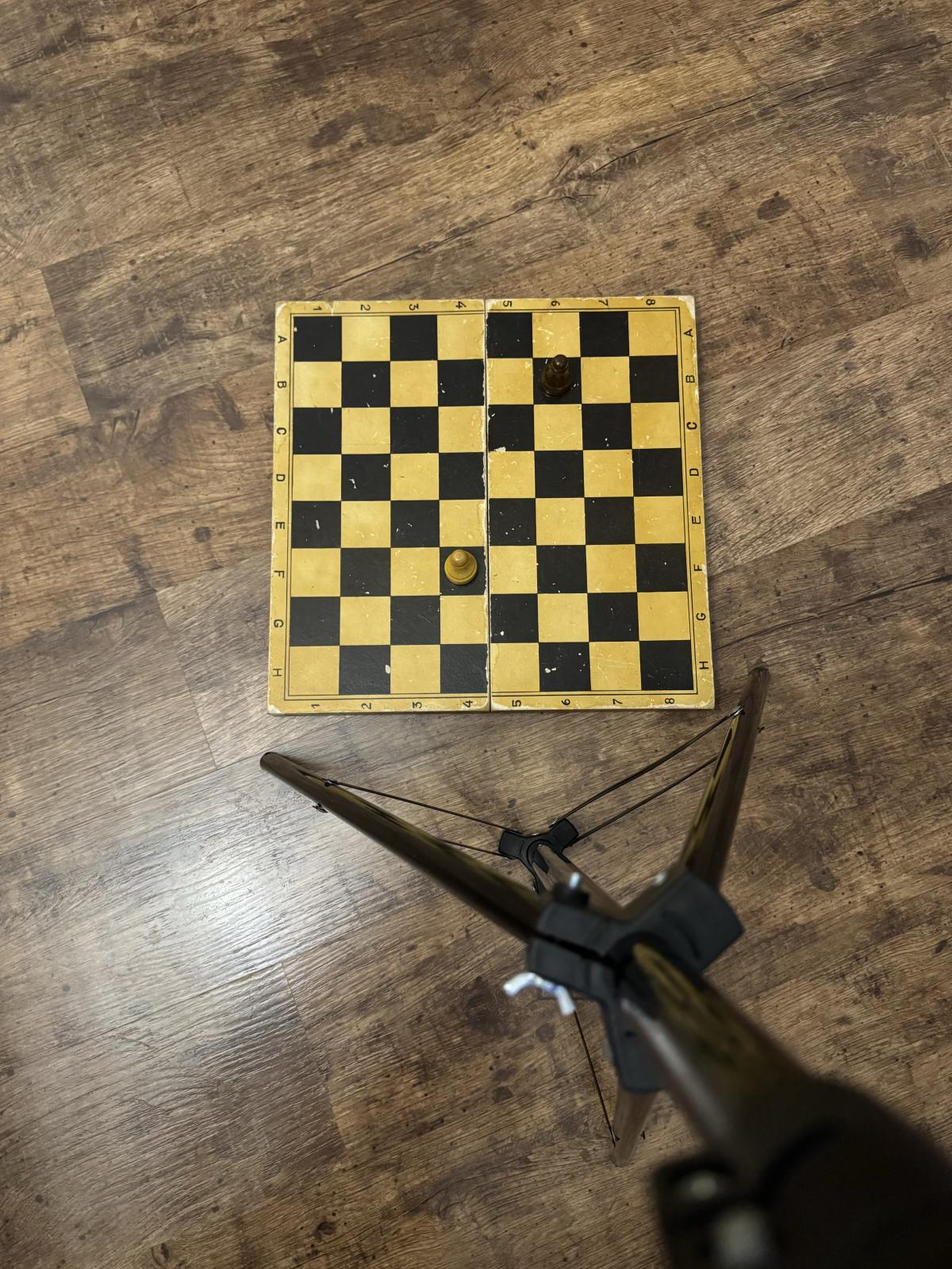Chess-Board: (289, 310, 694, 696)
